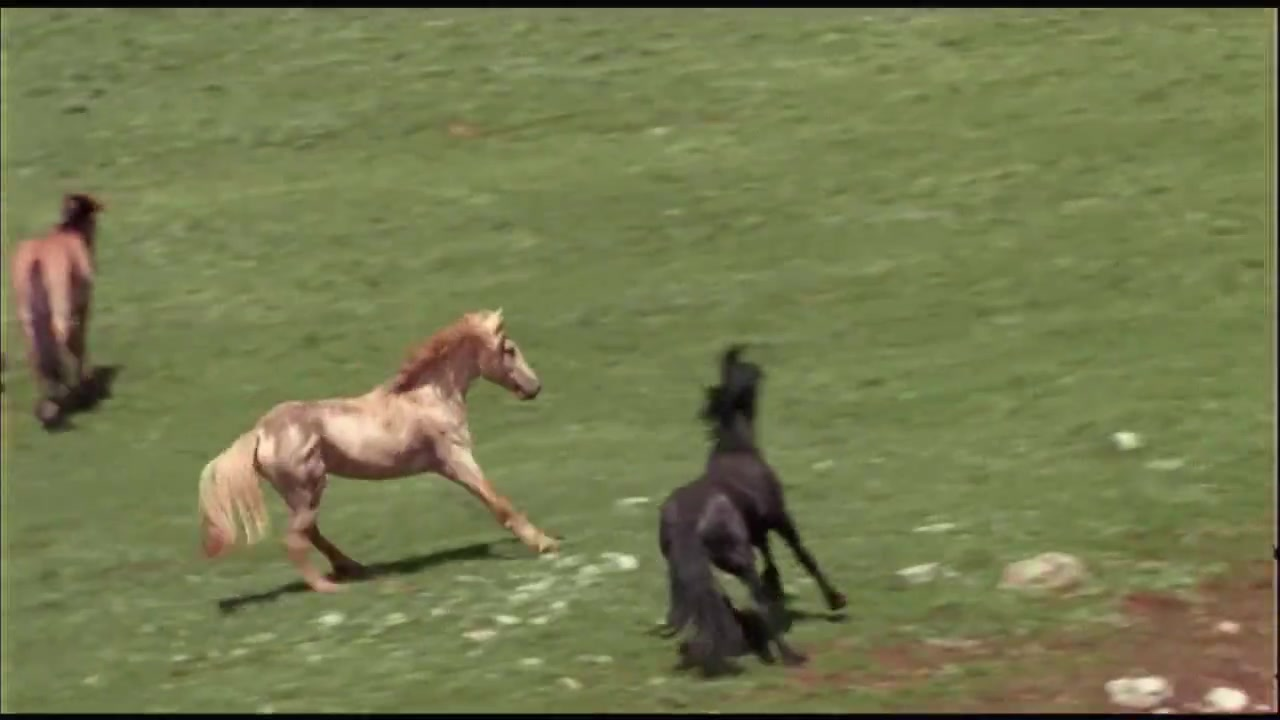horse: (196, 308, 570, 597)
